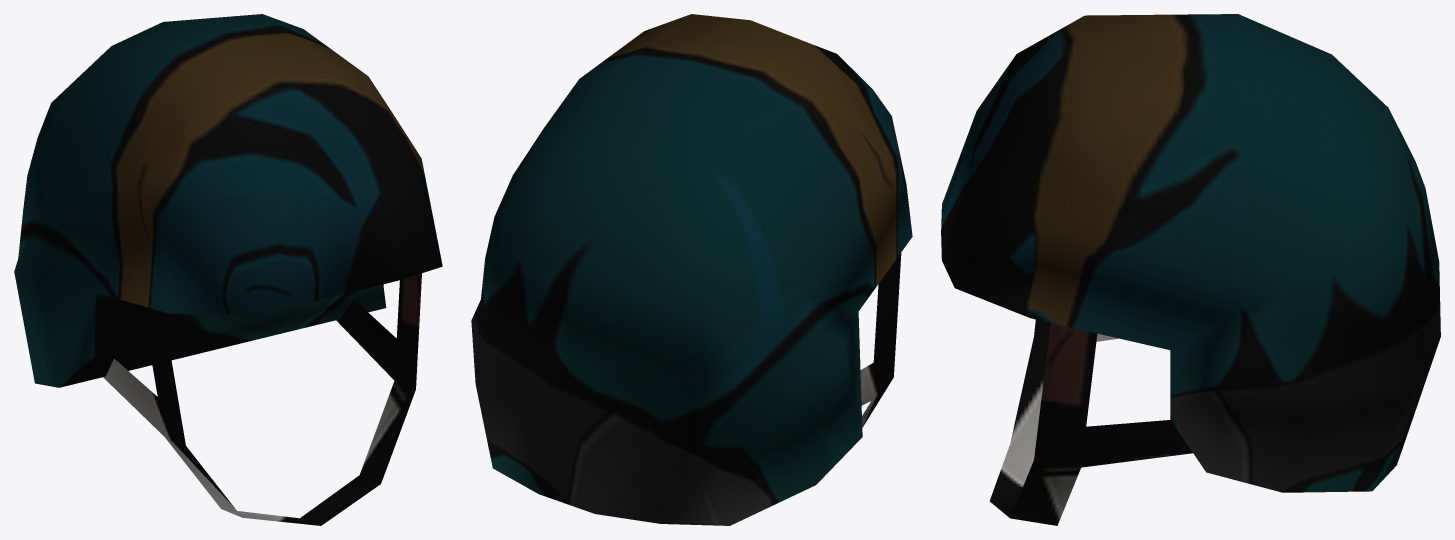
Rendered from mod_gear_head02.fbx.
The picture shows the model from 3 angles, left to right: view 1: azimuth 30°, elevation 25°; view 2: azimuth 150°, elevation 25°; view 3: azimuth 270°, elevation 25°; orthographic projection. The views are drawn at different scales.
Visible parts, largest first — view 1: mod_gear_head02; view 2: mod_gear_head02; view 3: mod_gear_head02.
Boxes of the visible parts, x1,y1,x2,y2 form: mod_gear_head02: (14,14,442,525); mod_gear_head02: (471,14,912,525); mod_gear_head02: (941,14,1440,525).
Bounding box in the file's own units: 19.82 × 24.92 × 23.83.
